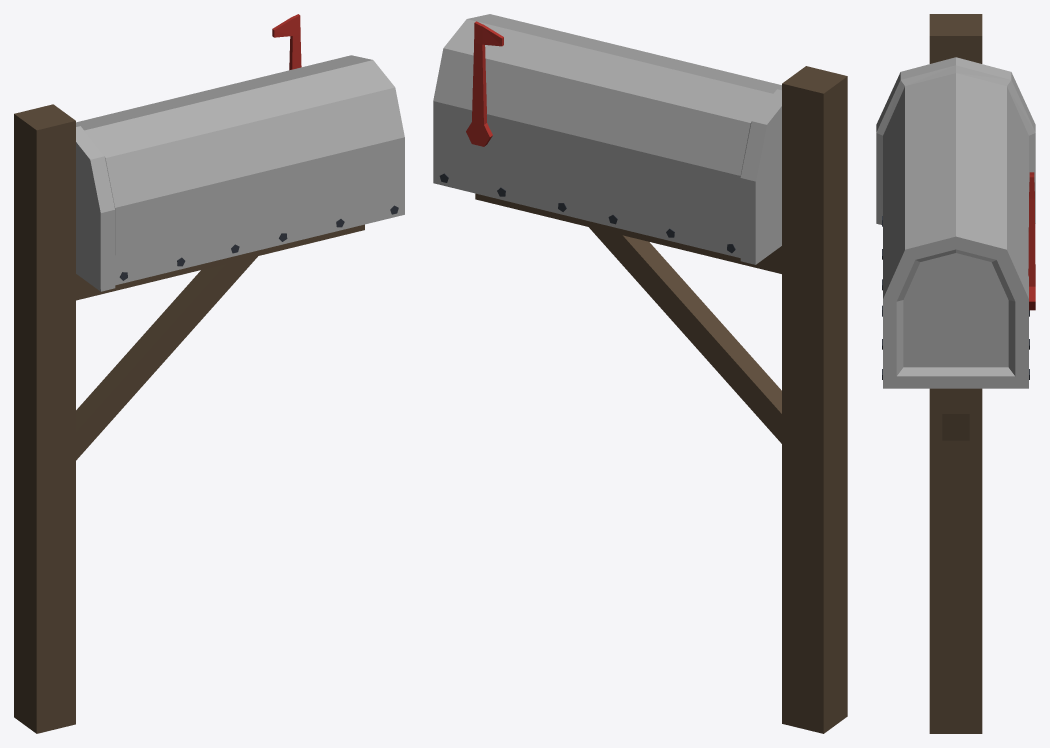
Rendered from SM_mailbox_2.gltf.
The picture shows the model from 3 angles, left to right: view 1: azimuth 30°, elevation 25°; view 2: azimuth 150°, elevation 25°; view 3: azimuth 270°, elevation 25°; orthographic projection. The views are drawn at different scales.
Visible parts, largest first — view 1: SM_mailbox_2; view 2: SM_mailbox_2; view 3: SM_mailbox_2.
Part boxes in pixels (<box>): SM_mailbox_2: <box>14,14,404,733</box>; SM_mailbox_2: <box>433,14,847,733</box>; SM_mailbox_2: <box>876,14,1035,733</box>.
Size of the model in its own units: 0.8627 by 1.45 by 0.2965.
1 material, 1 textured.
